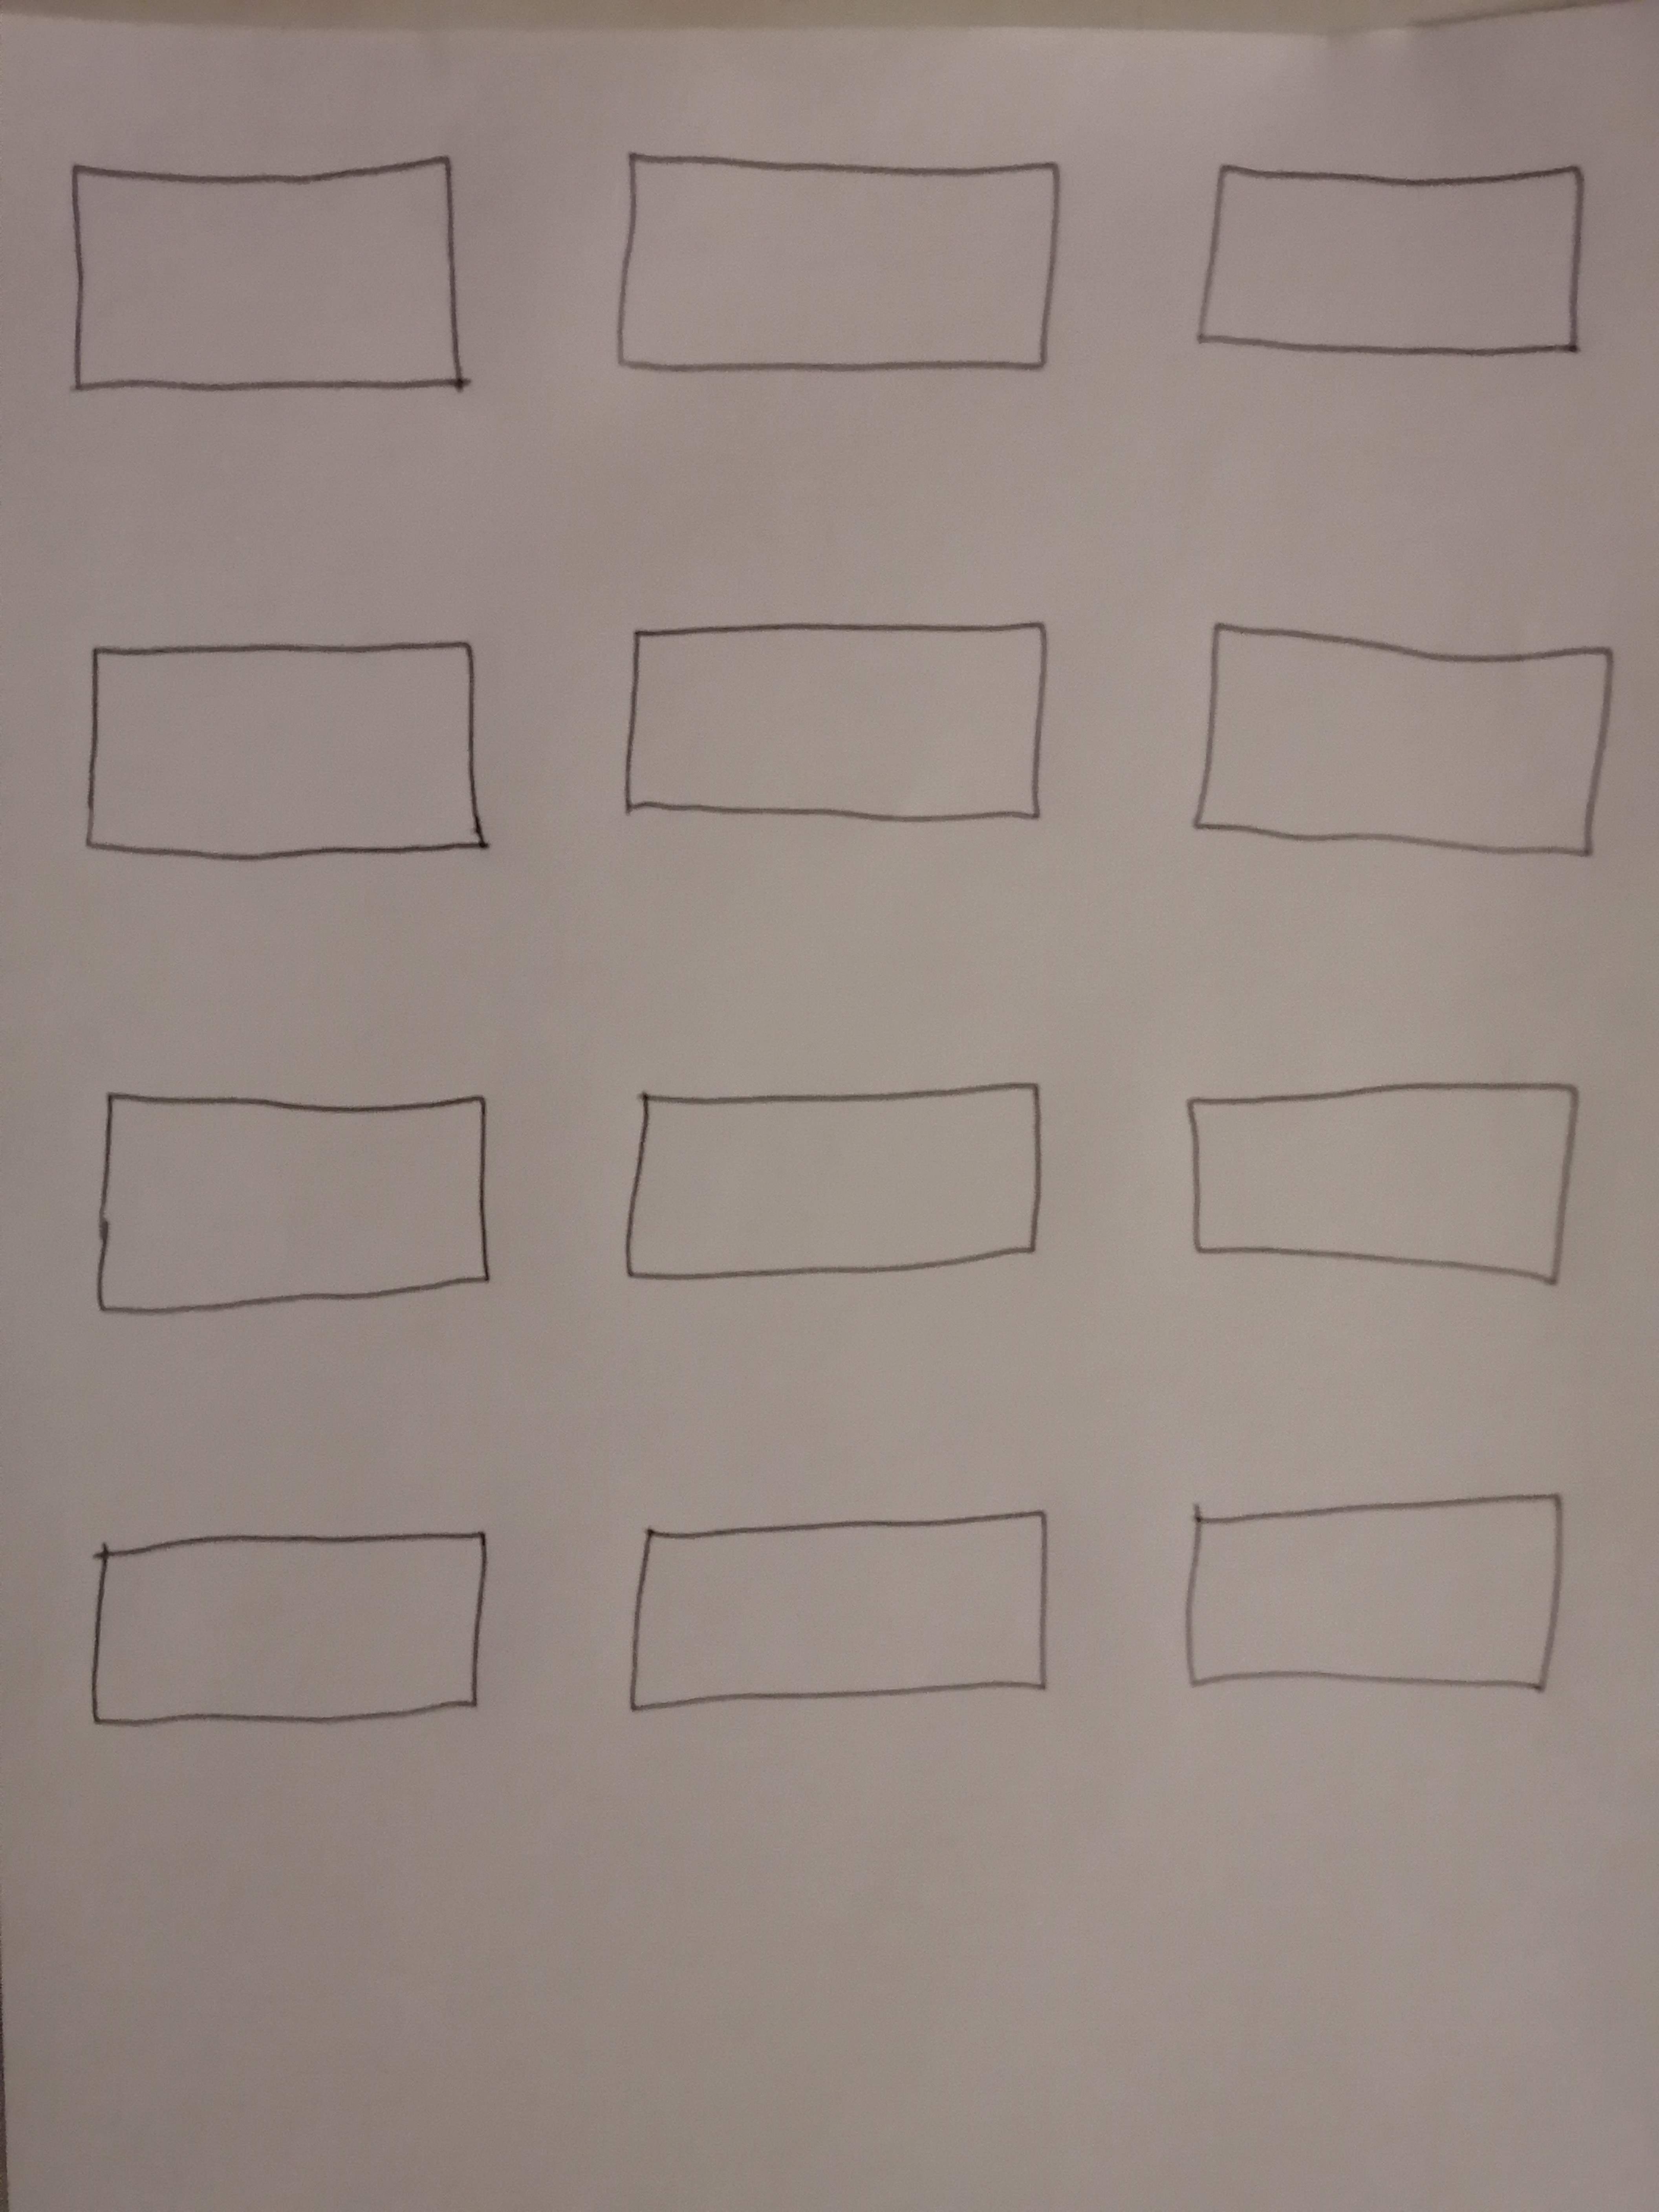process: (603, 577, 1110, 871), (599, 120, 1084, 427), (49, 1052, 528, 1352), (42, 606, 528, 899), (1171, 582, 1628, 892), (35, 134, 491, 437), (1175, 120, 1614, 416), (1138, 1045, 1614, 1317), (59, 1507, 521, 1759), (1152, 1470, 1591, 1731), (592, 1498, 1070, 1735), (606, 1055, 1060, 1303)
